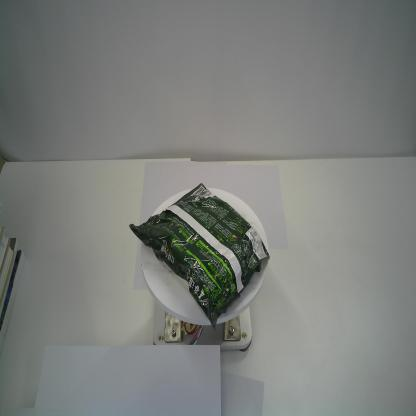Instant Noodles: (128, 183, 270, 332)
